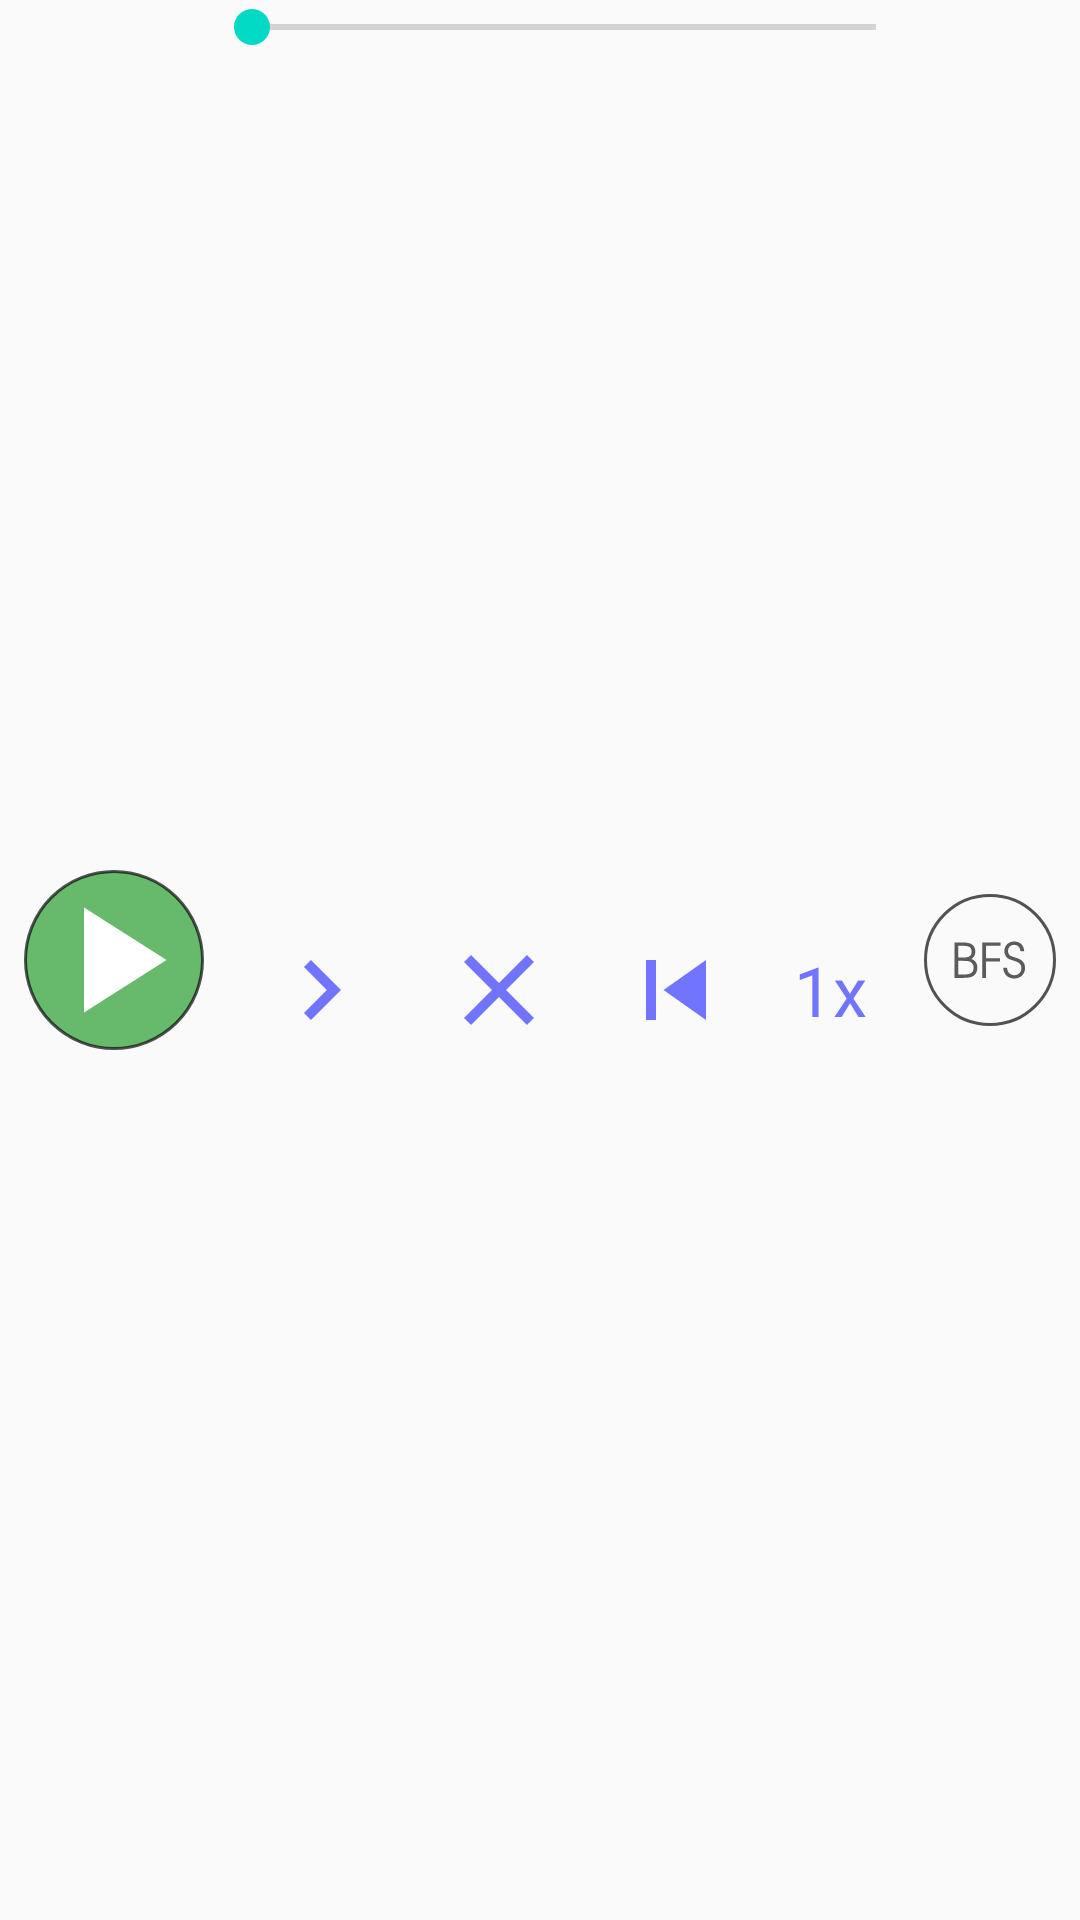

Point at icon controls on the screen. Image size 1080px x 1920px, points as point (x, y).
next step: point (322, 990)
play: point (114, 960)
